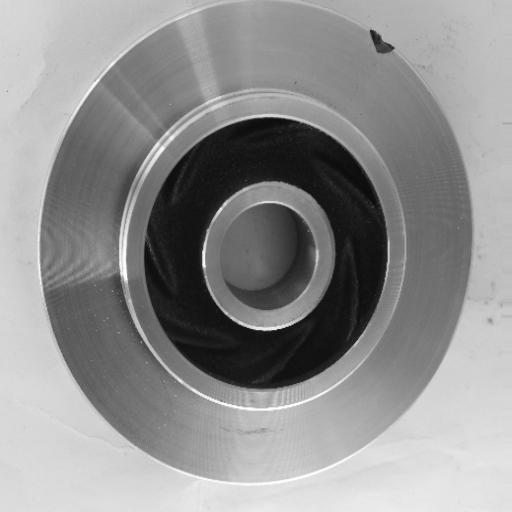crack: (358, 22, 407, 63)
unpolished_casting: (37, 1, 476, 487)
